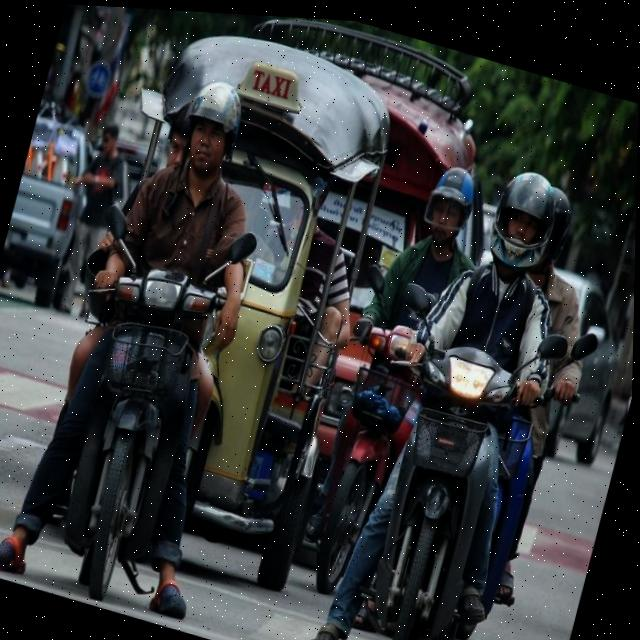car: (0, 155, 96, 320)
motorcycle: (0, 182, 271, 630), (316, 276, 577, 640)
